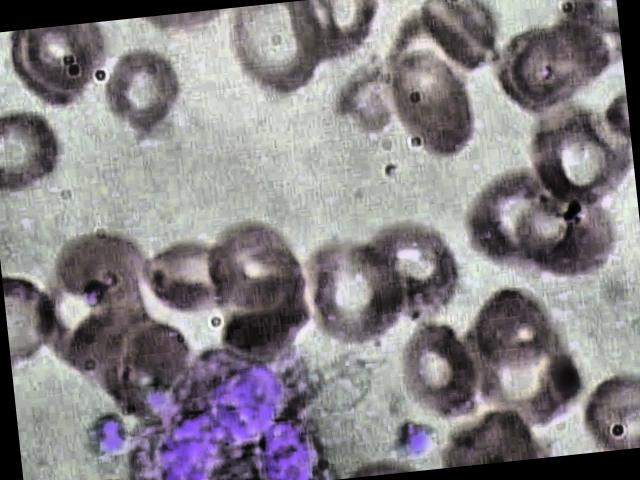Platelets: (380, 412, 442, 463), (86, 407, 134, 467)
RBC: (298, 235, 418, 354), (355, 216, 471, 328), (522, 103, 638, 215), (223, 0, 331, 106), (384, 50, 478, 166), (140, 234, 250, 328), (48, 222, 158, 316), (94, 47, 194, 144), (398, 321, 487, 429), (0, 105, 72, 199), (579, 368, 640, 452), (311, 0, 383, 68)
WBC: (111, 337, 332, 480)
